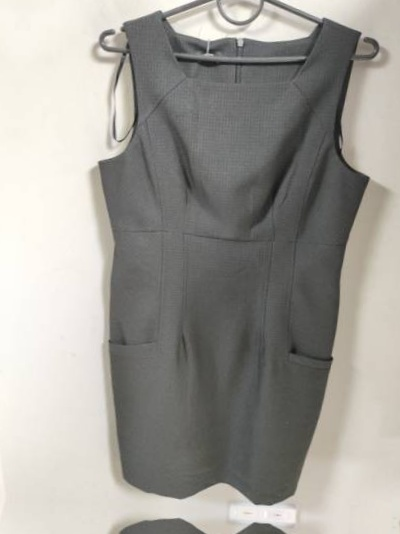Dress: (54, 0, 400, 523), (20, 501, 392, 534), (389, 525, 400, 534)
